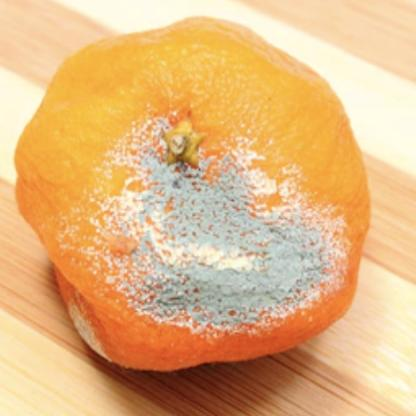rotten: (21, 16, 373, 373)
